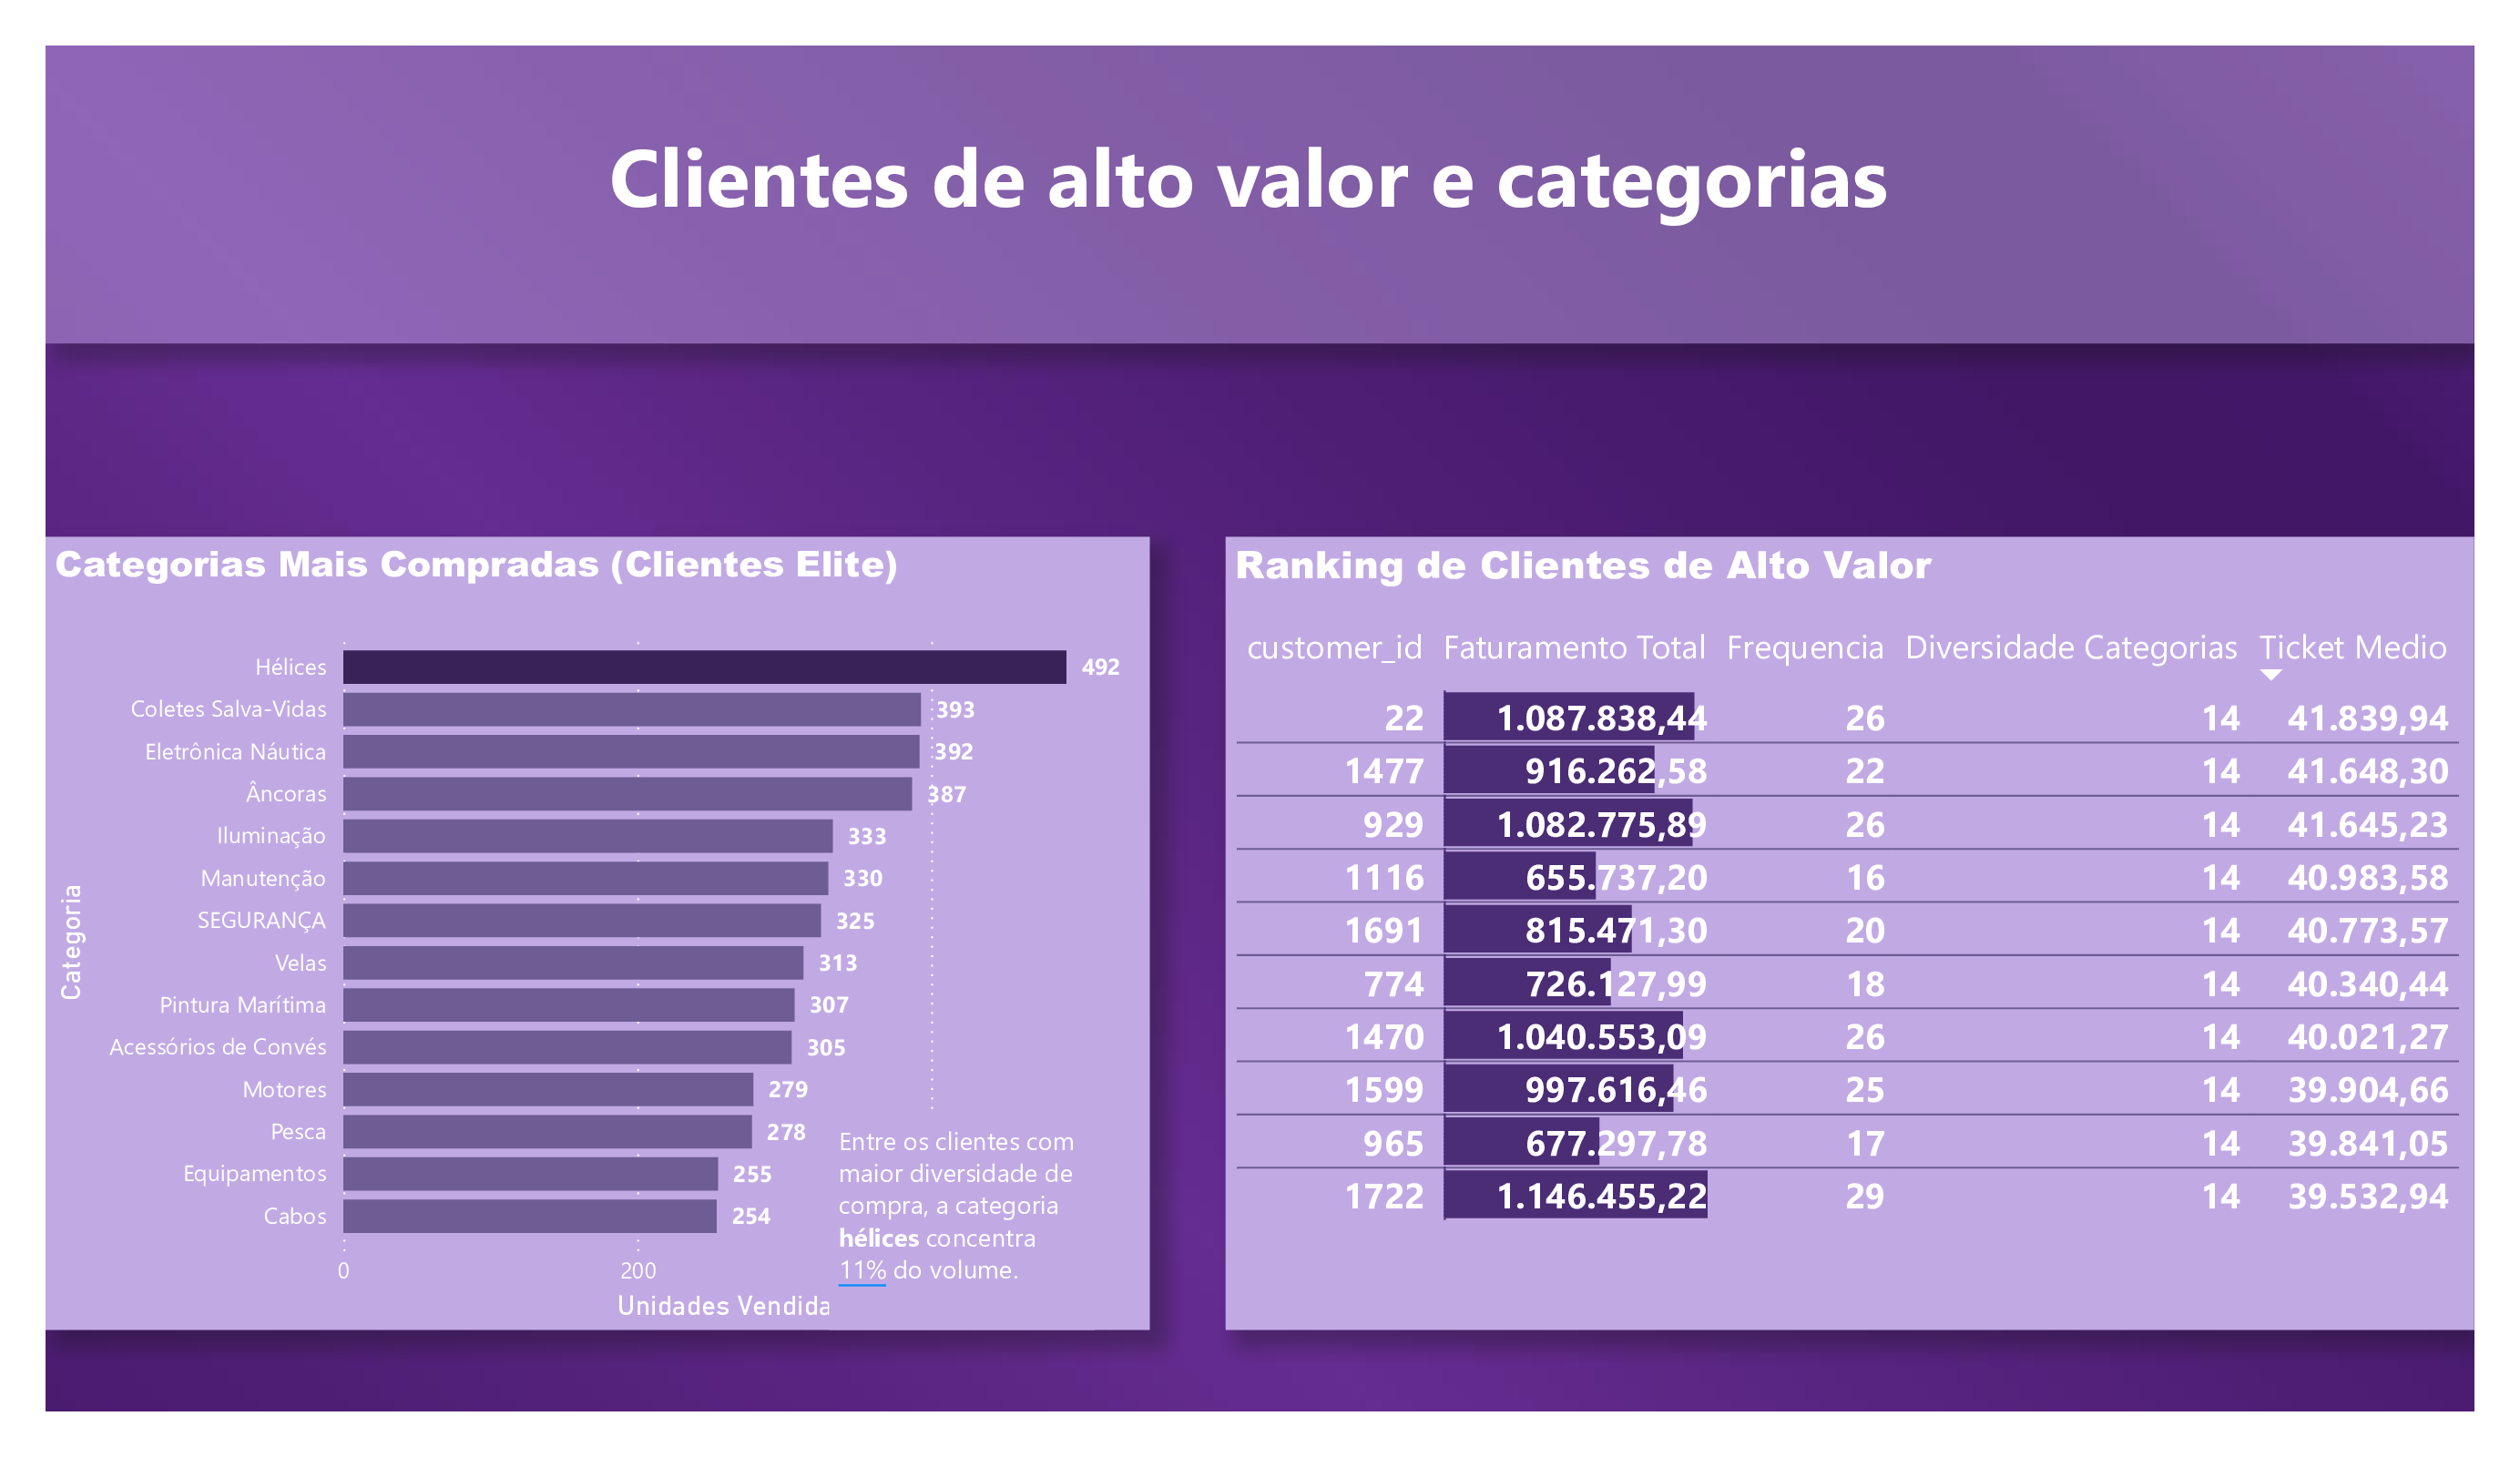

Layout of this report page (visuals, bound fields, positions):
{"tool":"powerbi","page":{"name":"Página 2","canvas":[1280,720],"ordinal":1},"visuals":[{"type":"tableEx","title":"Ranking de Clientes de Alto Valor","fields":{"Values":["Clientes Elite.customer_id","Clientes Elite.Faturamento Total","Clientes Elite.Frequencia","Clientes Elite.Diversidade Categorias","Clientes Elite.Ticket Medio"]},"box":[622.4,258.8,657.3,418.2],"z":0},{"type":"clusteredBarChart","title":"Categorias Mais Compradas (Clientes Elite)","fields":{"Category":["public categories.name"],"Y":["Sum(public order_items.quantity)"]},"box":[0,258.8,582.1,418.2],"z":1000},{"type":"textbox","box":[412.8,563.3,139.7,114],"z":2000},{"type":"textbox","box":[0,0,1280,157.2],"z":3000}]}

Visuals, with their boxes on the page's 1280x720 design canvas (x1, y1, x2, y2). These are canvas units, not pixel positions in the 2520x1457 screenshot, which may show the page scaled, cropped or inside an application window:
"Ranking de Clientes de Alto Valor" tableEx: pyautogui.locateOnScreen(622, 259, 1280, 677)
"Categorias Mais Compradas (Clientes Elite)" clusteredBarChart: pyautogui.locateOnScreen(0, 259, 582, 677)
textbox: pyautogui.locateOnScreen(413, 563, 552, 677)
textbox: pyautogui.locateOnScreen(0, 0, 1280, 157)
